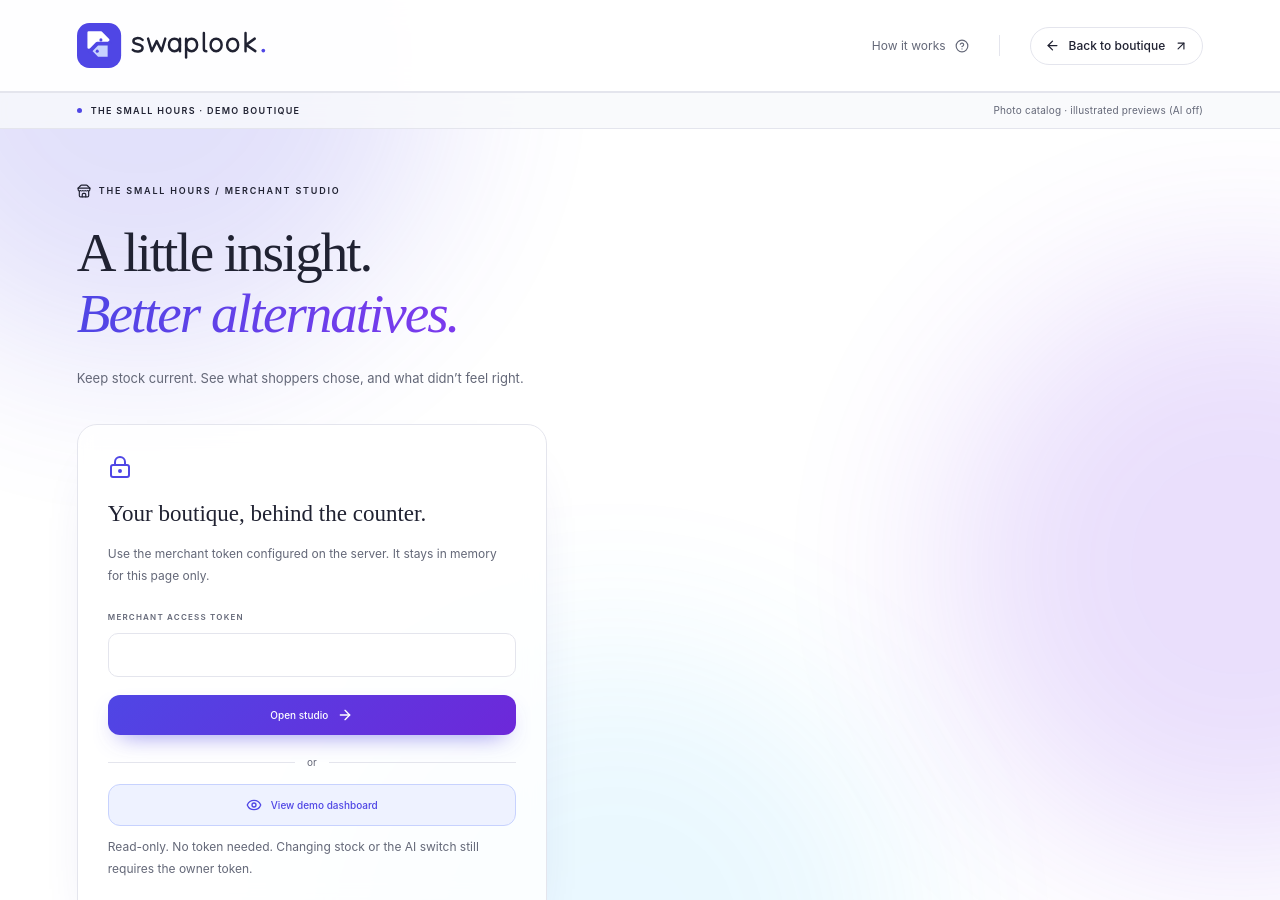
Scenario: shopper DOM behavior with explicitly injected fixtures › lets the merchant switch AI previews off to save credits
The width and height of the screenshot is (1280, 900).
Type "synthetic-token" into the password field labelled "MERCHANT ACCESS TOKEN" at (312, 655), box x1=108 y1=633 x2=516 y2=677
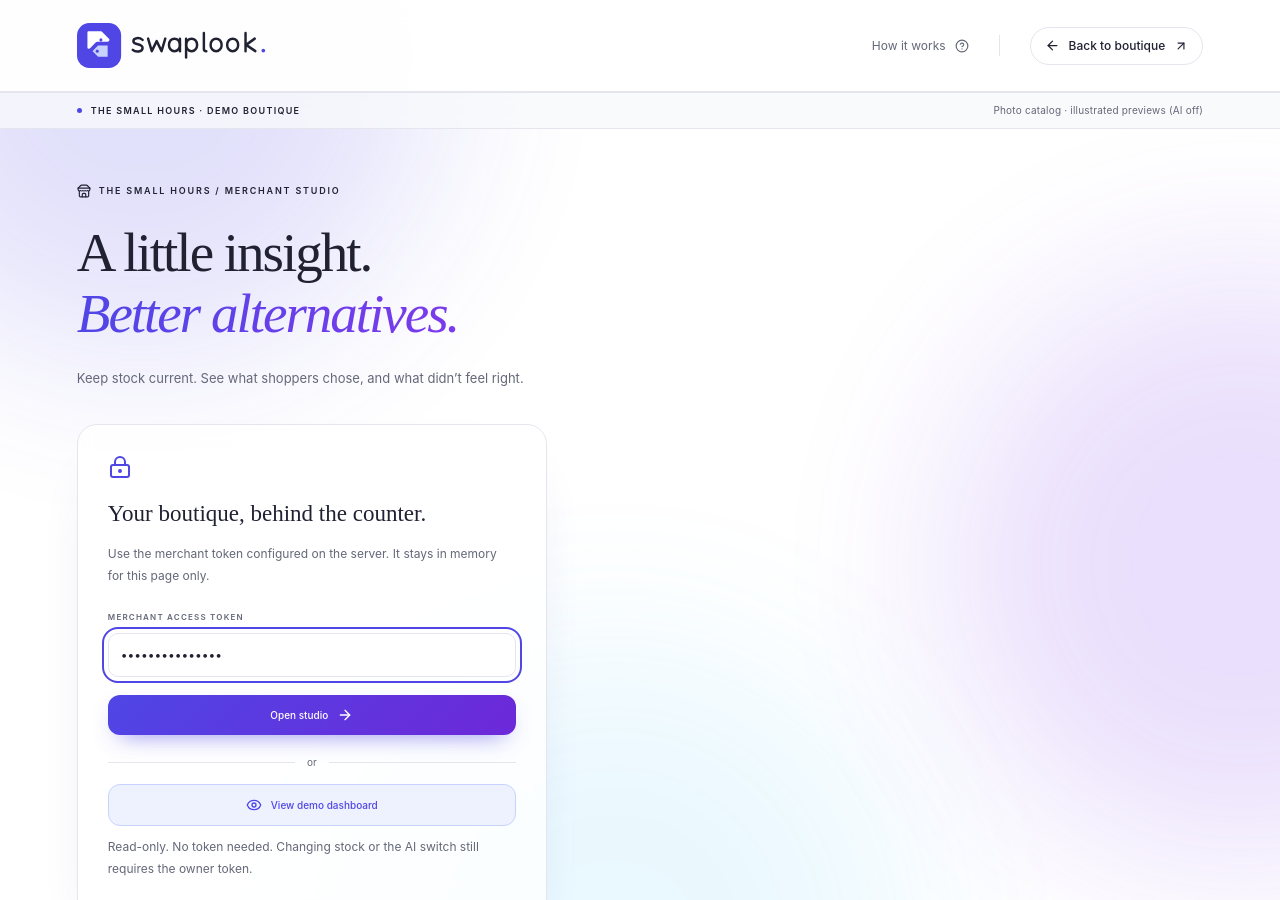
Click the button "Open studio" at (312, 715), box x1=108 y1=695 x2=516 y2=735
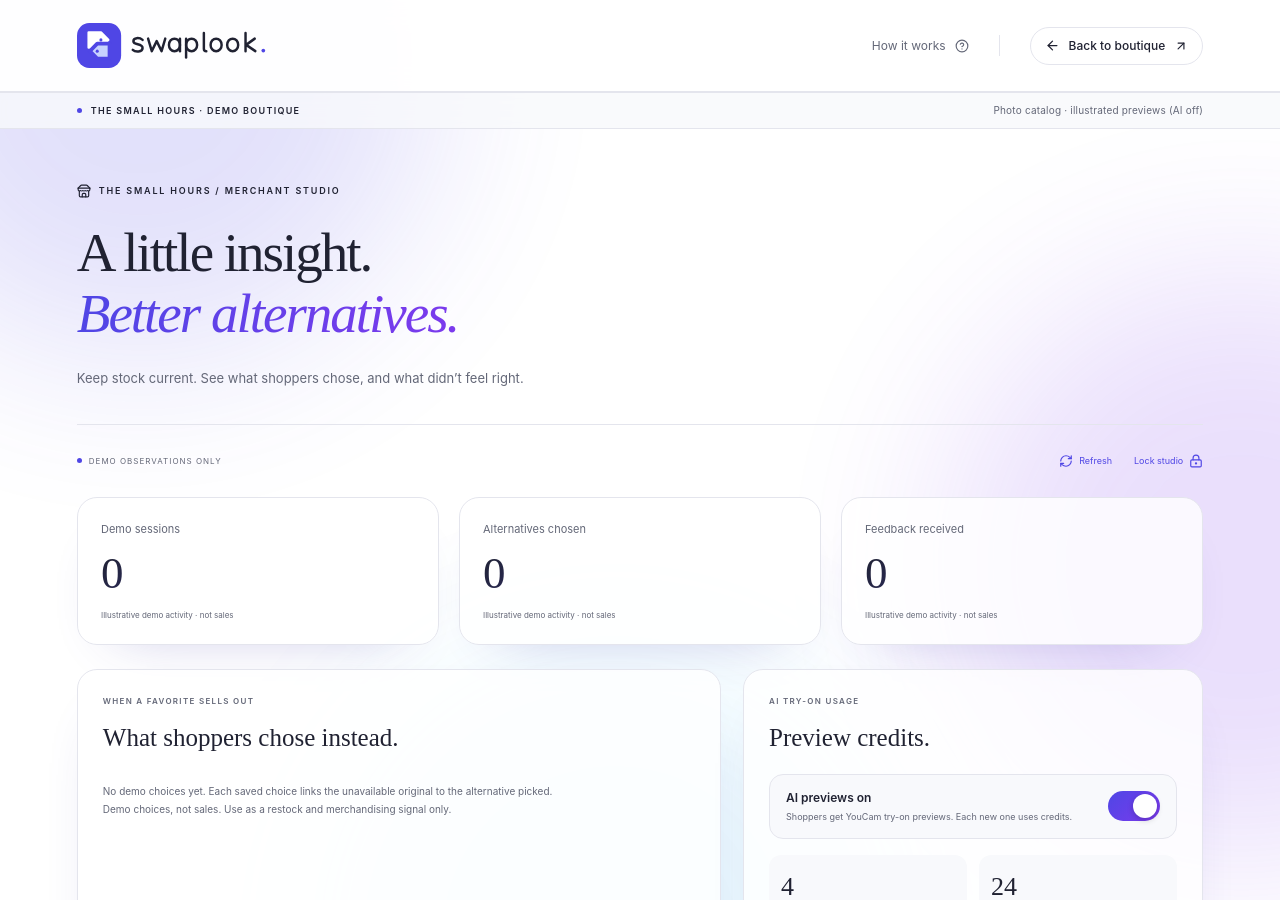
Click the switch named "AI previews" at (1134, 806), box x1=1108 y1=791 x2=1160 y2=821
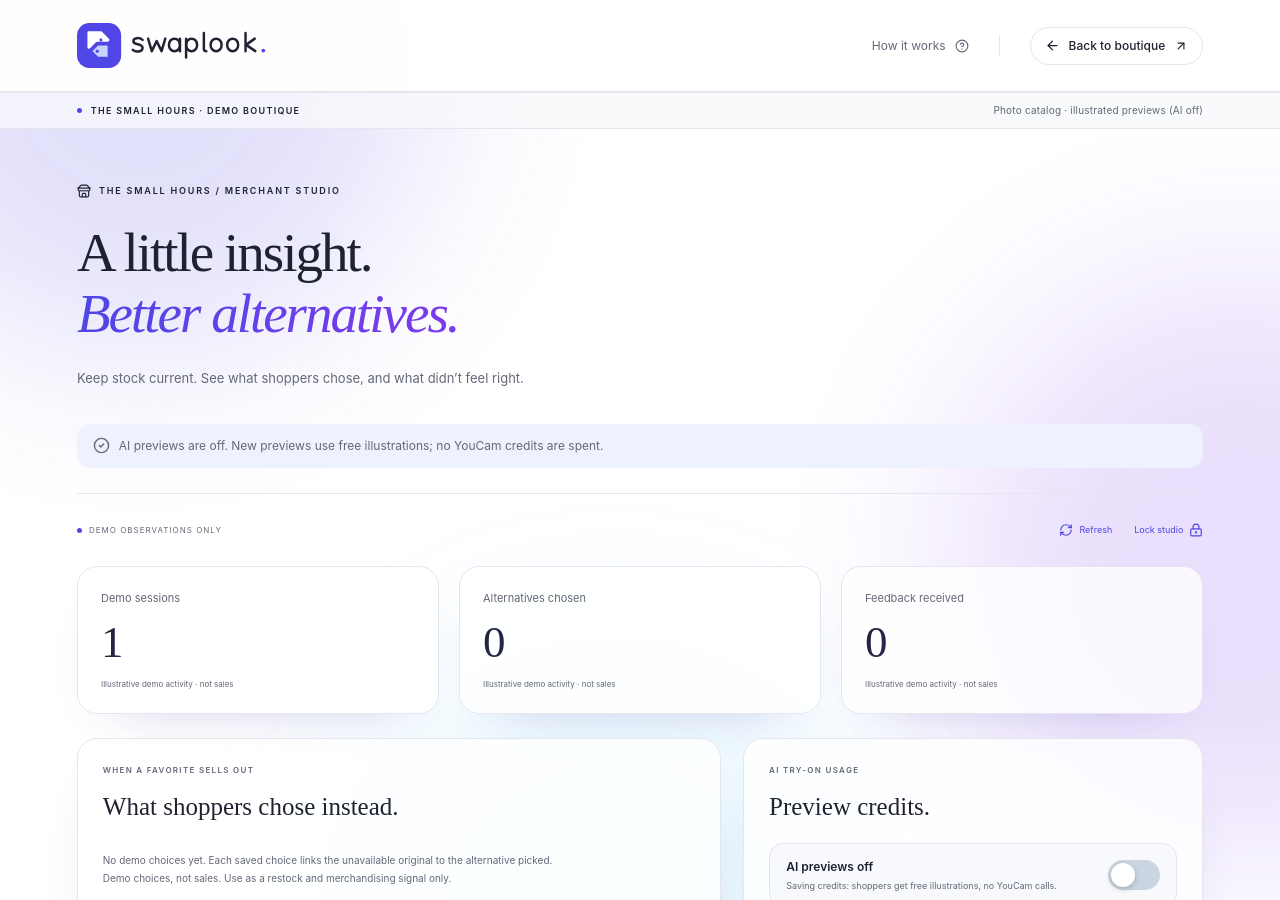
Expected: the text "AI previews are off" is shown, x1=119 y1=438 x2=604 y2=452
